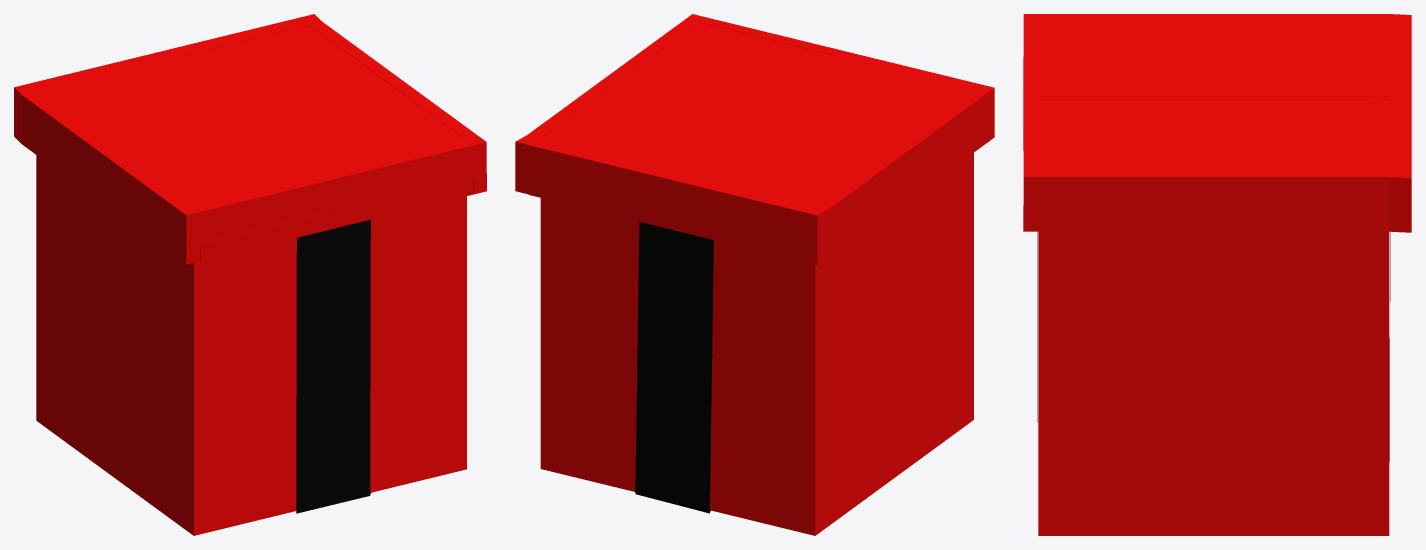
Rendered from redpackage.fbx.
The picture shows the model from 3 angles, left to right: view 1: azimuth 30°, elevation 25°; view 2: azimuth 150°, elevation 25°; view 3: azimuth 270°, elevation 25°; orthographic projection. The views are drawn at different scales.
Parts seen in each view (by area): view 1: Plane.003; view 2: Plane.003; view 3: Plane.003.
Part boxes in pixels (left/top/right/bottom): Plane.003: left=14, top=14, right=486, bottom=535; Plane.003: left=515, top=14, right=994, bottom=535; Plane.003: left=1023, top=14, right=1411, bottom=535.
Size of the model in its own units: 221 by 232 by 221.
